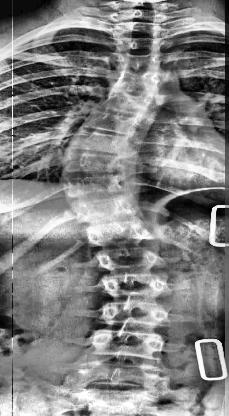Vertebrae: (64, 359, 172, 393), (88, 327, 168, 359), (99, 269, 171, 299), (94, 298, 174, 324), (94, 245, 164, 271), (87, 220, 153, 246), (74, 197, 140, 221), (63, 150, 127, 174), (82, 108, 138, 134), (66, 176, 122, 200), (71, 130, 129, 152), (104, 92, 152, 115), (115, 70, 163, 92), (123, 54, 163, 72), (126, 36, 165, 52)
